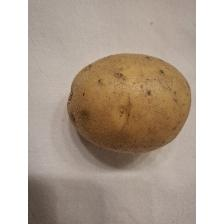Kartoffel: (65, 48, 193, 158)
